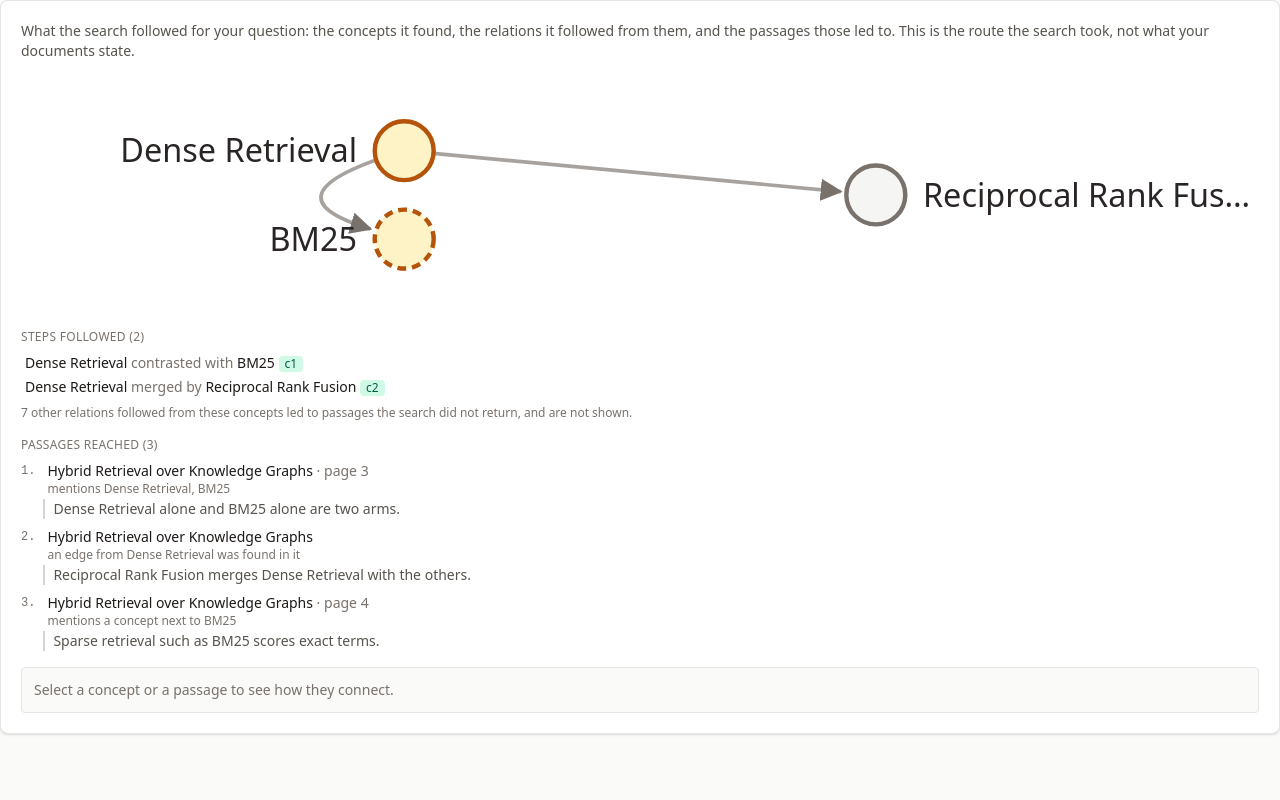
Test: TraversalView: selection › clicking a passage shows the steps found in it and the concepts that reach it
What coordinates should you click on to do the following:
click the button "Hybrid Retrieval over Knowledge Graphs"
I would click on:
 (180, 537)
Its box is top-left (43, 527), bottom-right (317, 547).
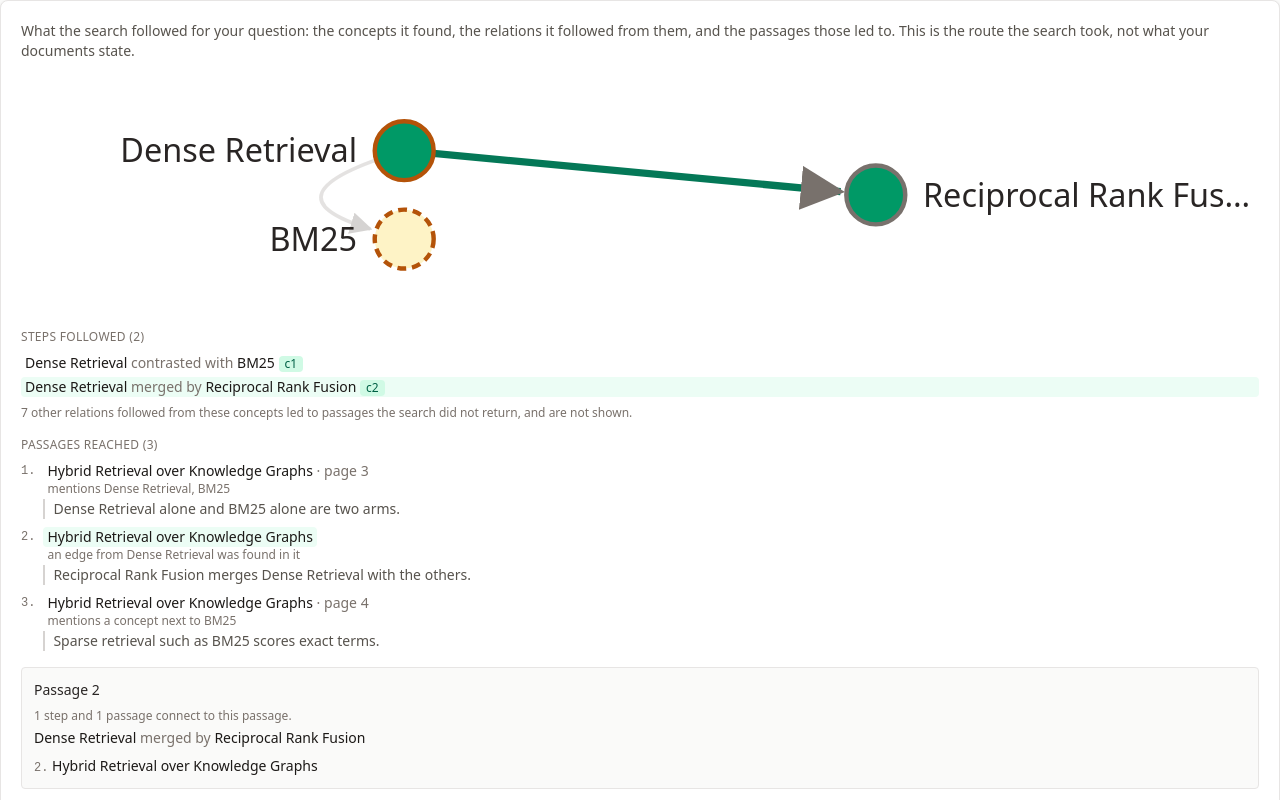
Check: the element named "Details" shows "Passage 2", box top-left (34, 680), bottom-right (100, 699)
Check: the element named "Details" shows "Dense Retrieval merged by Reciprocal Rank Fusion", box top-left (21, 667), bottom-right (1259, 789)
